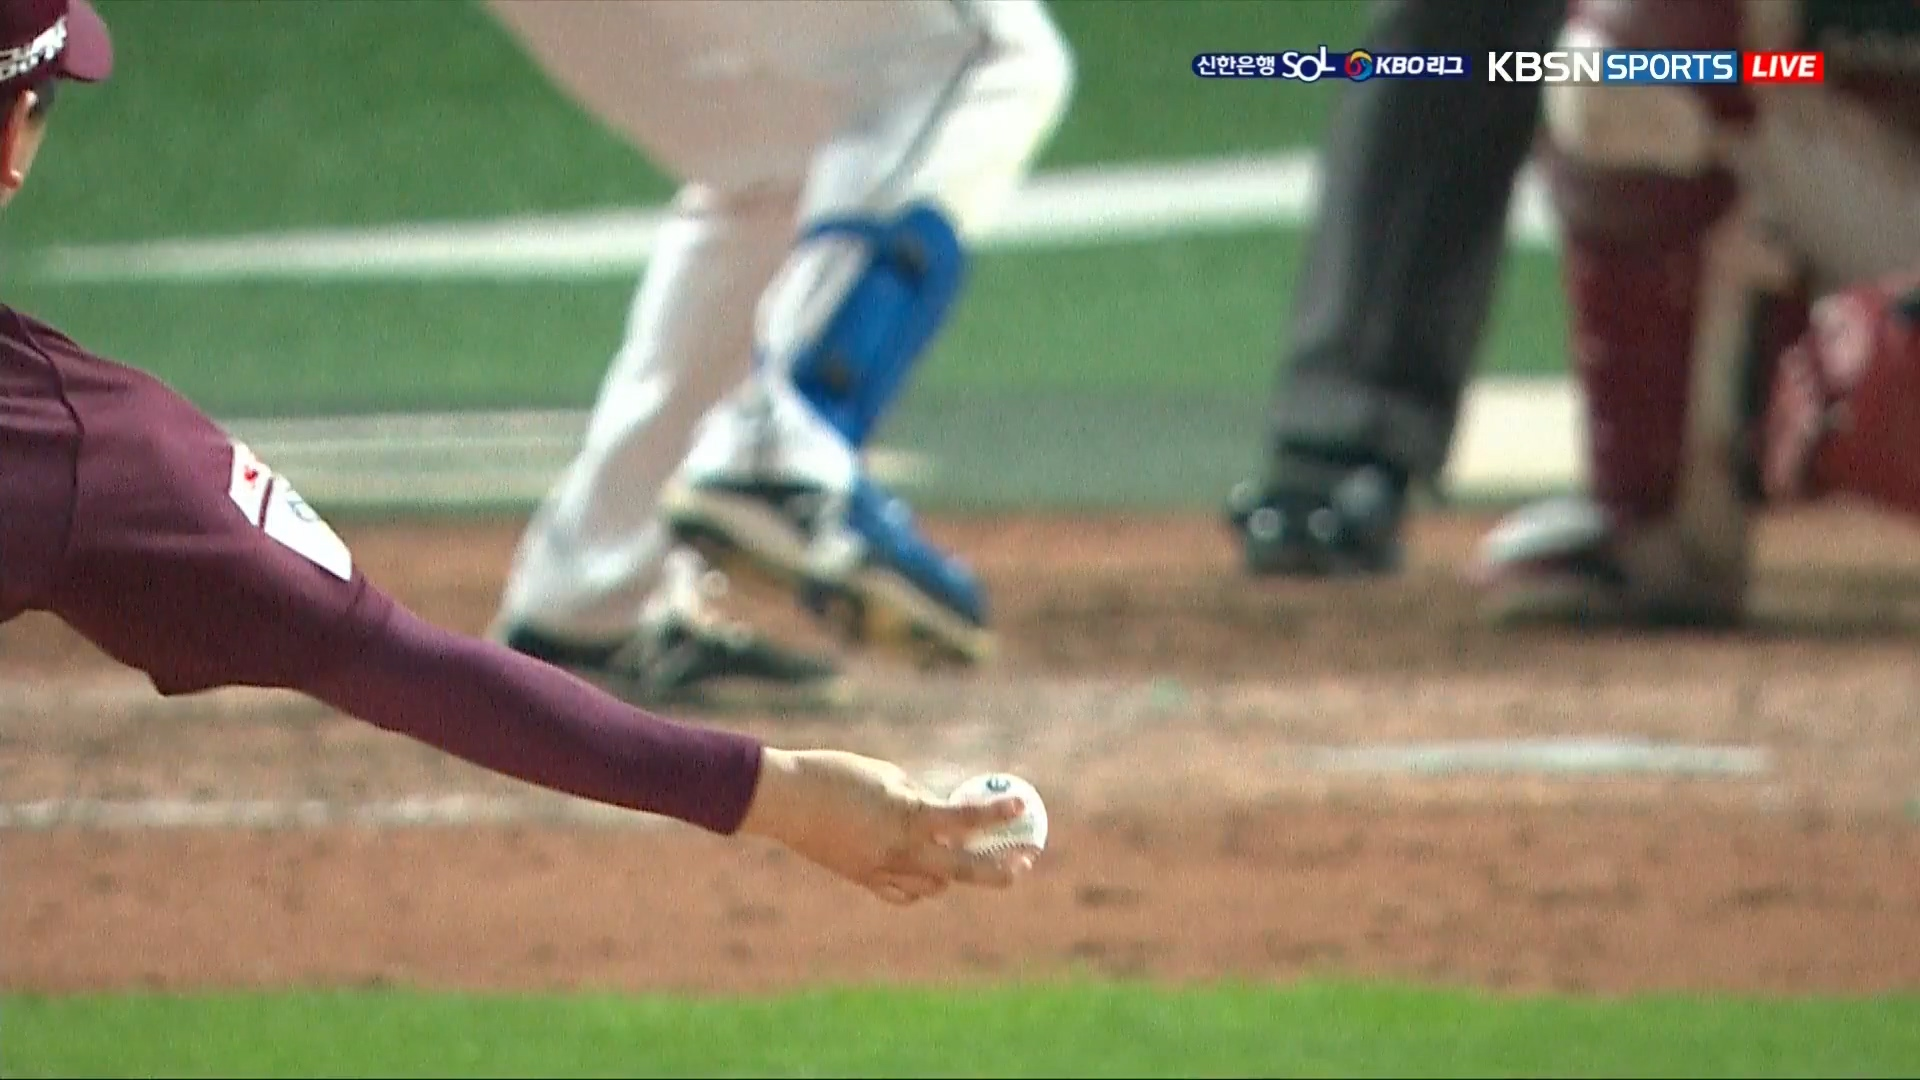zoomin_hand: (407, 622, 1054, 911)
